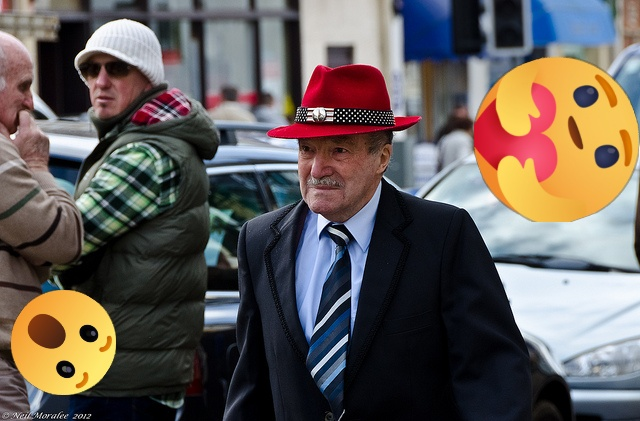care: (474, 57, 639, 222)
wow: (11, 290, 116, 395)
